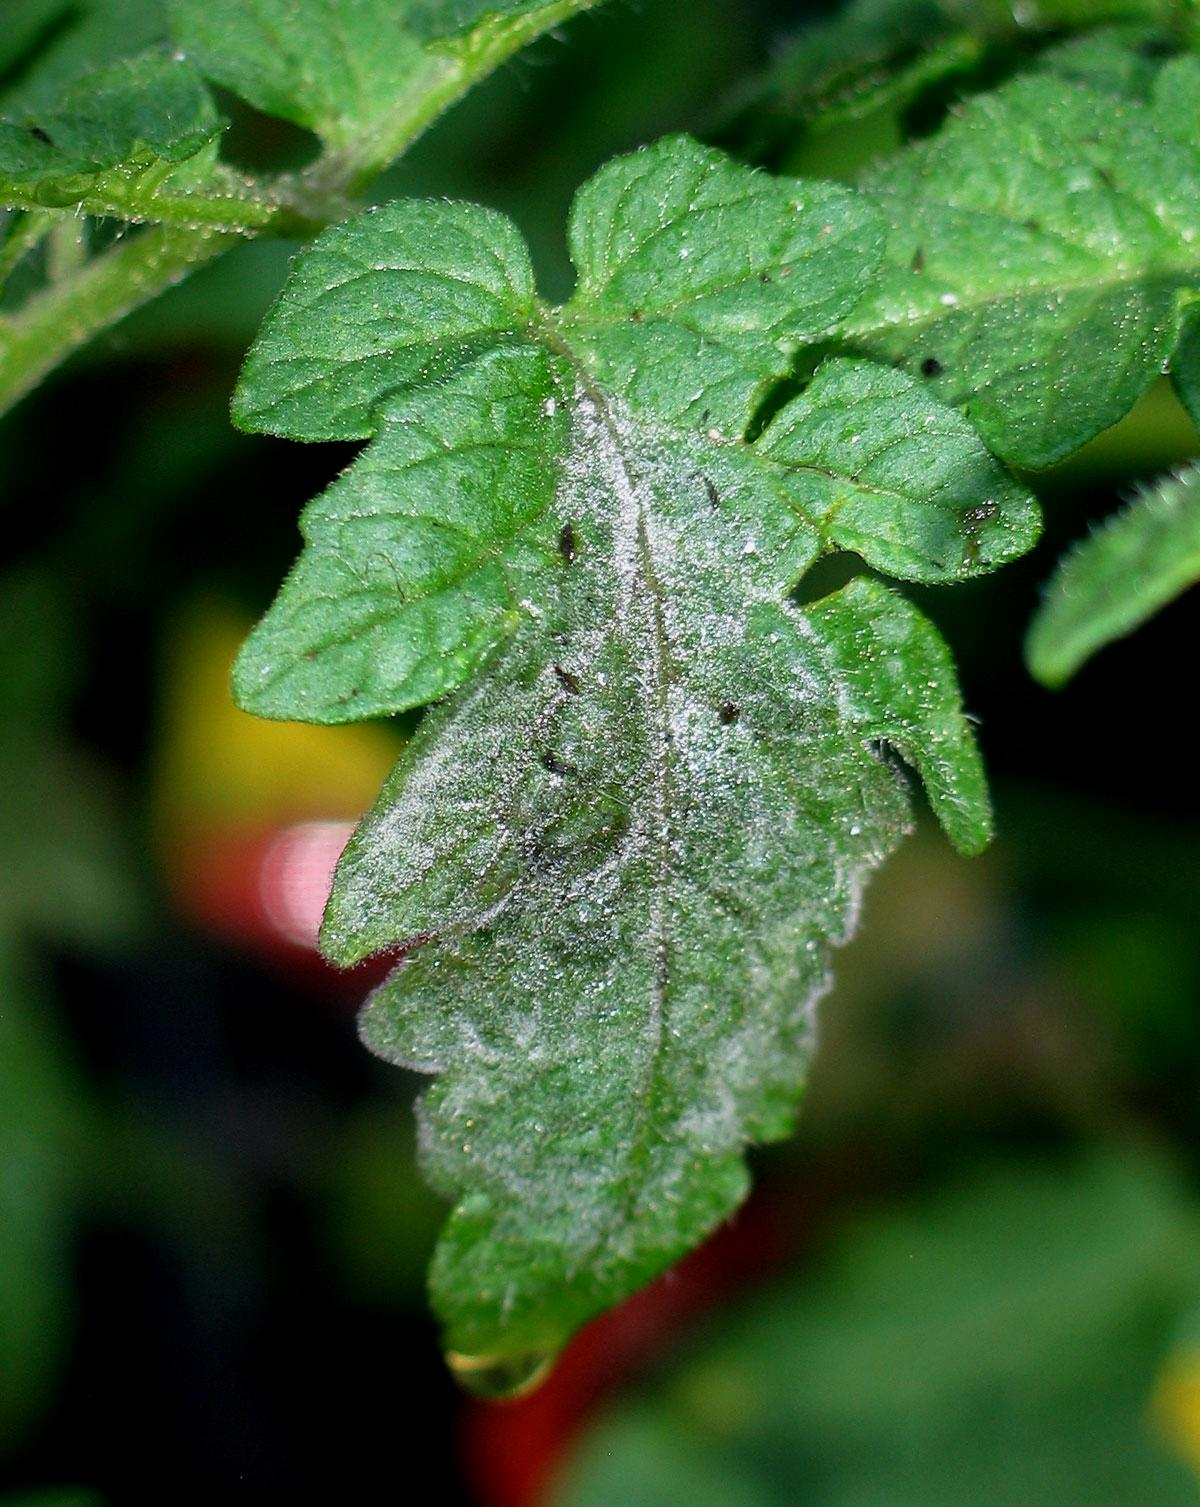Tomato leaf late blight: (241, 133, 1035, 1415)
